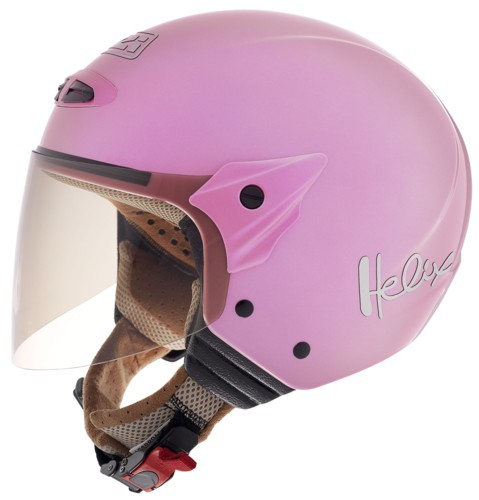helmet: (45, 19, 475, 395)
